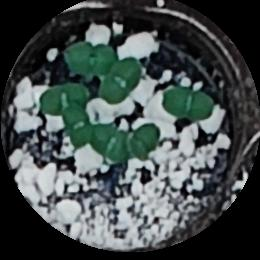Basil: (160, 84, 207, 123), (99, 60, 139, 101), (65, 44, 117, 72), (90, 124, 128, 160), (40, 88, 85, 114), (60, 111, 93, 144), (133, 126, 161, 158)
